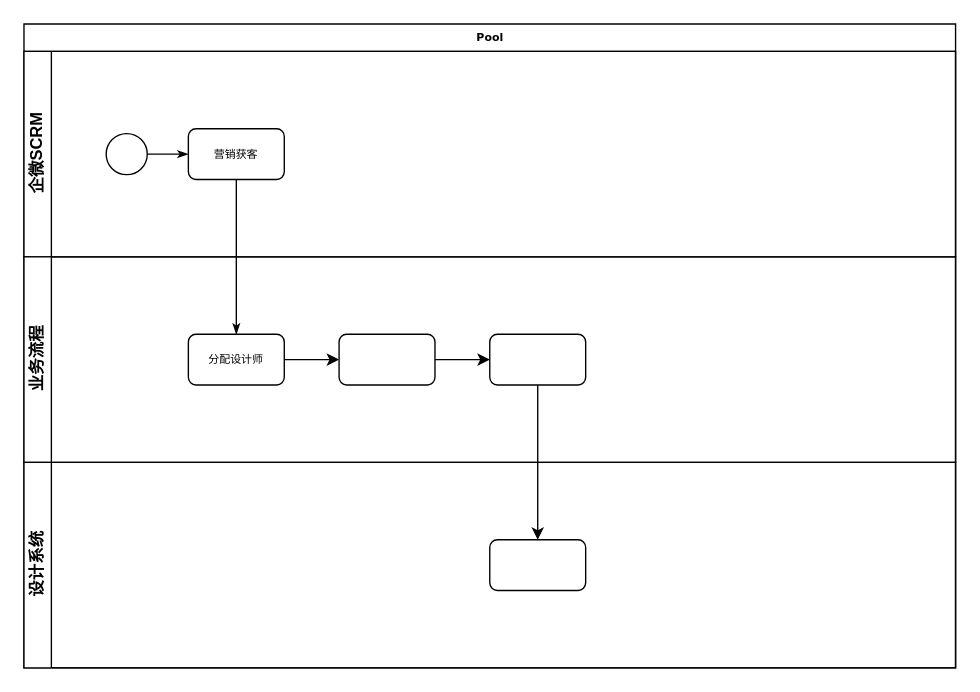
Image size: 980x692. Some labels were removed from this diagram. The centre of each missing label's shape, as x and y in pixels:
"绘制方案" belongs at [537,564].
"营销方案" belongs at [537,359].
"量房" belongs at [386,359].
